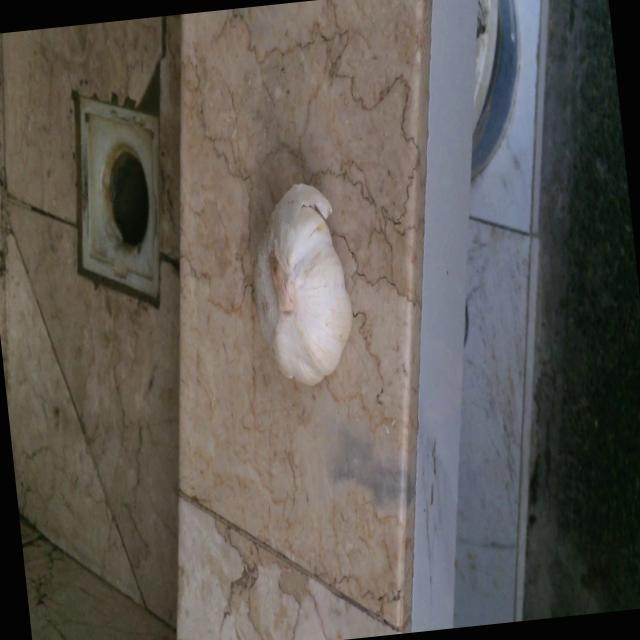bawang: (238, 172, 365, 390)
